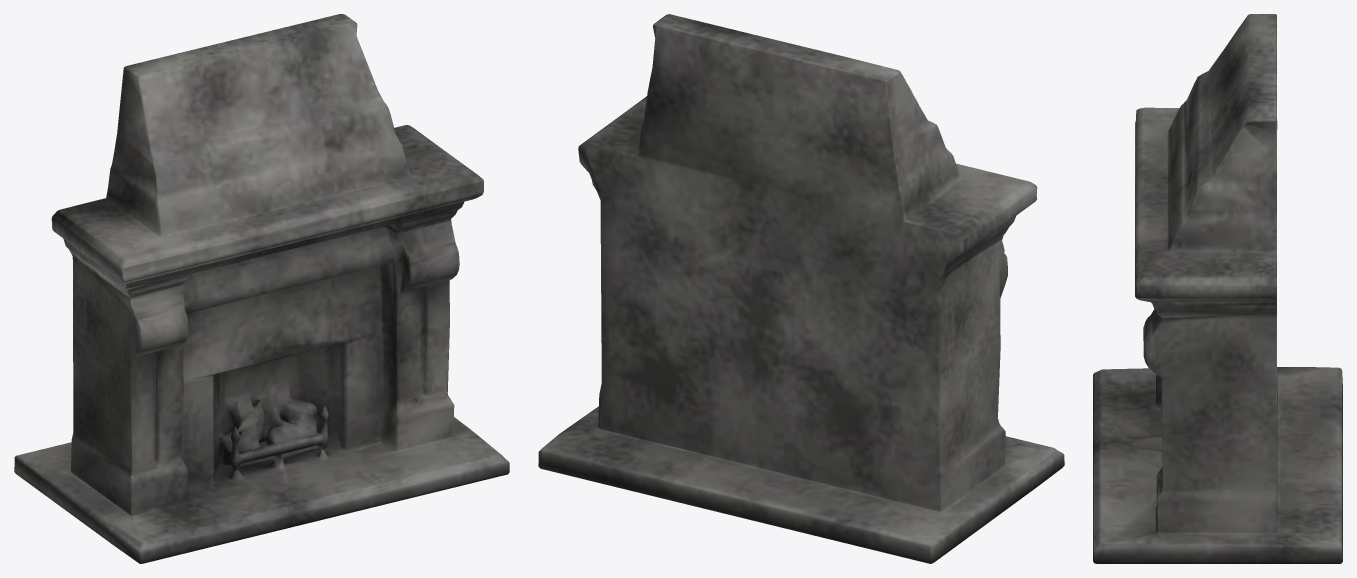
Rendered from worn-granite-fireplace-v001.glb.
The picture shows the model from 3 angles, left to right: view 1: azimuth 30°, elevation 25°; view 2: azimuth 150°, elevation 25°; view 3: azimuth 270°, elevation 25°; orthographic projection. The views are drawn at different scales.
Parts seen in each view (by area): view 1: worn-granite-fireplace; view 2: worn-granite-fireplace; view 3: worn-granite-fireplace.
Part boxes in pixels (box(x1,y1,x2,y2)): worn-granite-fireplace: box(14, 14, 509, 563); worn-granite-fireplace: box(538, 14, 1064, 563); worn-granite-fireplace: box(1093, 14, 1342, 563).
Bounding box in the file's own units: 1.69 × 1.8 × 0.9914.
1 material, 1 textured.
